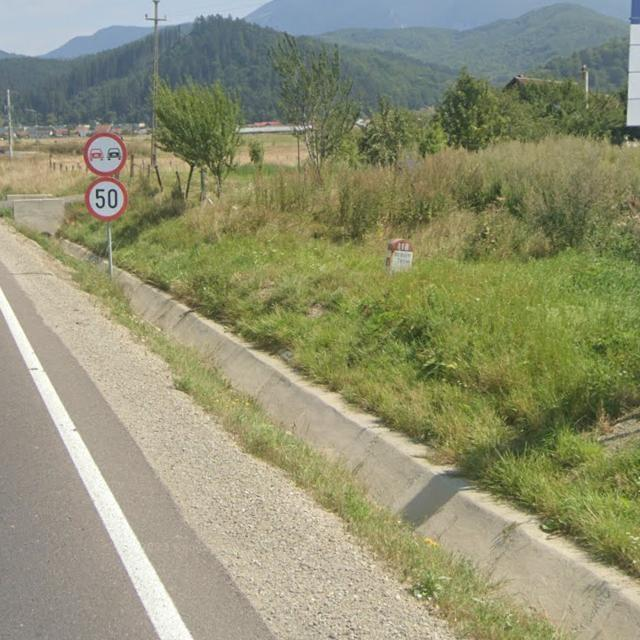forb_overtake: (82, 132, 128, 176)
forb_speed_over_50: (84, 177, 129, 222)
